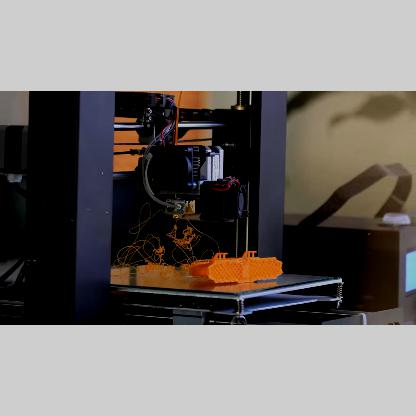fail: (117, 216, 205, 276)
